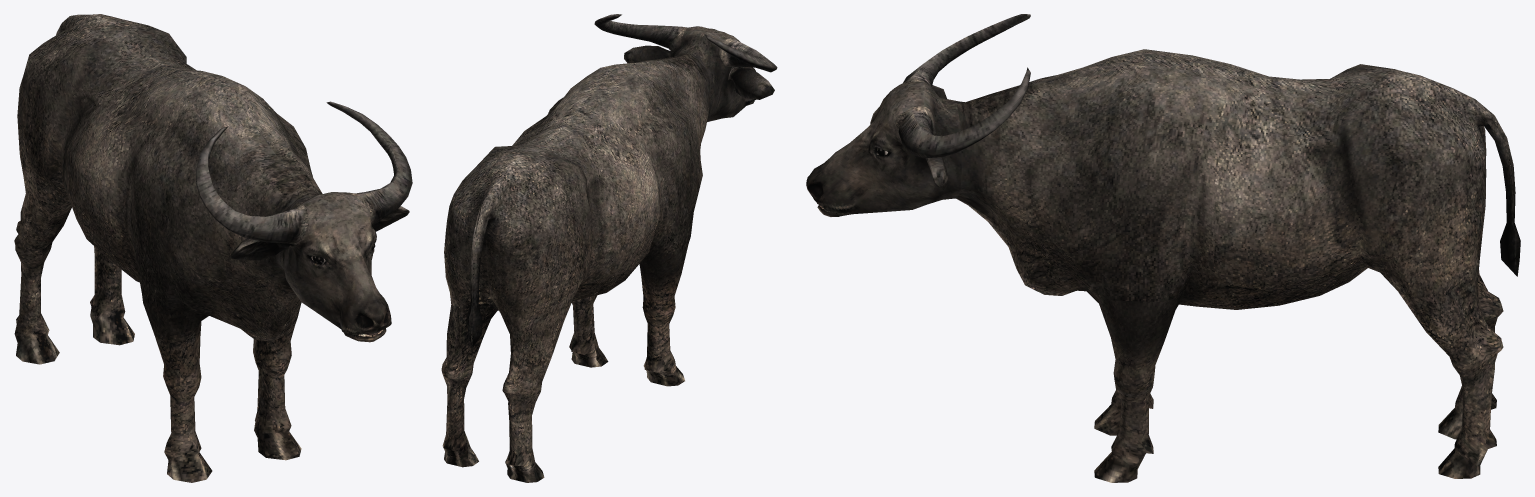
Rendered from bufalo1.fbx.
3 renders of one model, left to right at view 1: azimuth 30°, elevation 25°; view 2: azimuth 150°, elevation 25°; view 3: azimuth 270°, elevation 25°, orthographic. The views are drawn at different scales.
Parts seen in each view (by area): view 1: buffalo_anim_asian_water_buffalo_lod01; view 2: buffalo_anim_asian_water_buffalo_lod01; view 3: buffalo_anim_asian_water_buffalo_lod01.
Boxes of the visible parts, x1,y1,x2,y2 form: buffalo_anim_asian_water_buffalo_lod01: (14, 14, 412, 482); buffalo_anim_asian_water_buffalo_lod01: (441, 14, 777, 482); buffalo_anim_asian_water_buffalo_lod01: (806, 14, 1520, 482).
Size of the model in its own units: 98.28 by 177 by 281.
Materials: 1 (1 with a texture image).
